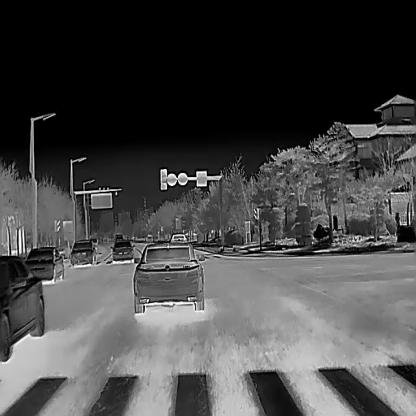car: (132, 241, 204, 313), (0, 254, 44, 361), (25, 246, 63, 282), (68, 239, 96, 266), (110, 240, 133, 260), (168, 232, 187, 242)
